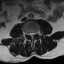CCS_normal: (31, 30, 33, 40)
LFS_stenosis: (34, 30, 36, 36)
LLS_normal: (33, 31, 34, 37)
RFS_stenosis: (26, 31, 29, 36)
RLS_normal: (29, 31, 31, 37)
